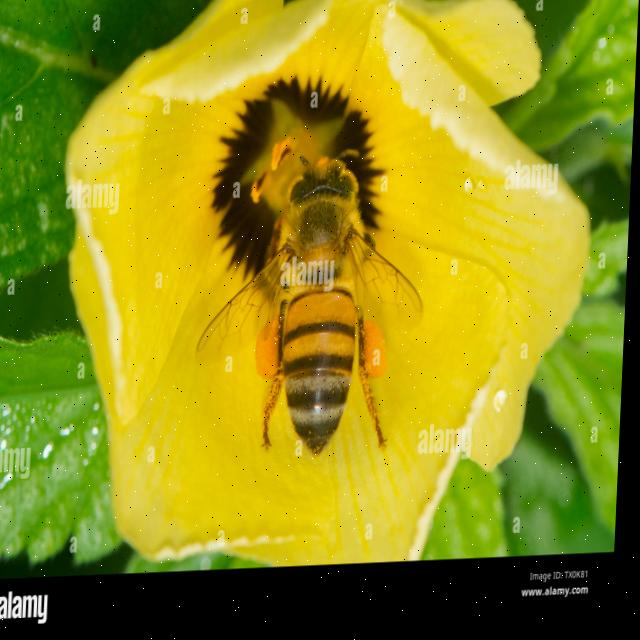Apis-mellifera-scutellata: (182, 139, 438, 499)
